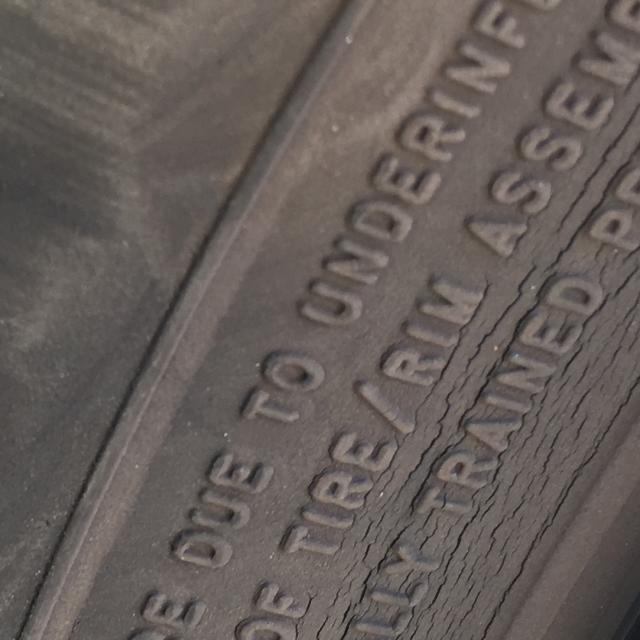Cracks: (253, 58, 640, 640)
